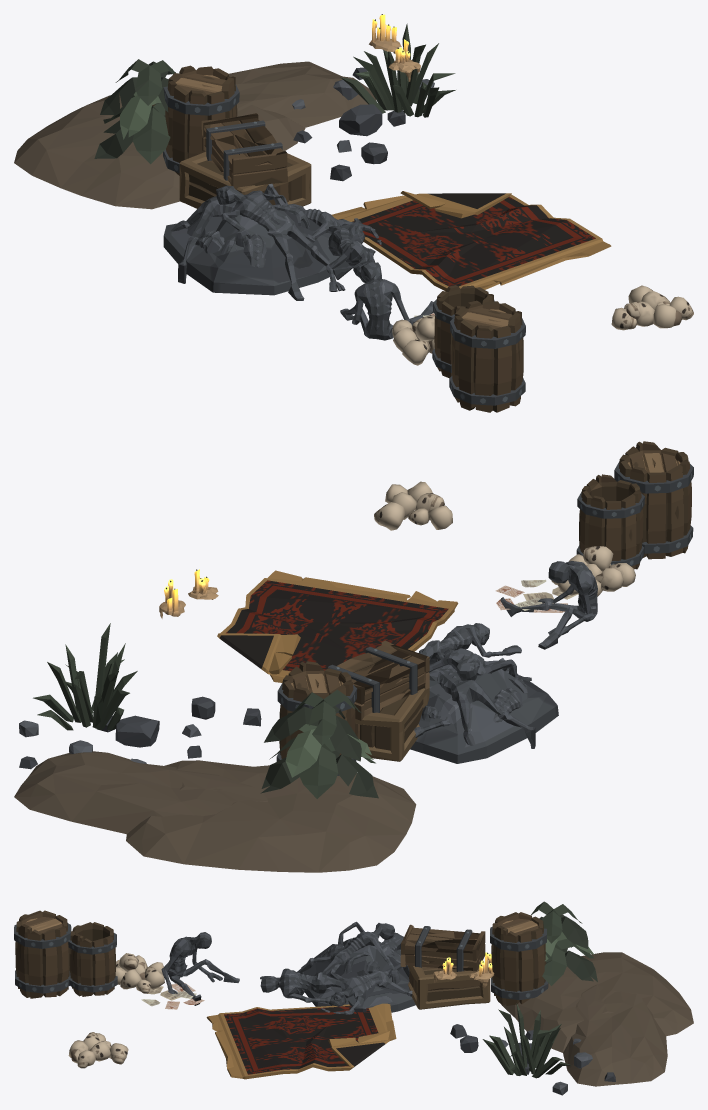
Rendered from crypt_cellar.gltf.
3 renders of one model, top to bottom at view 1: azimuth 30°, elevation 25°; view 2: azimuth 150°, elevation 25°; view 3: azimuth 270°, elevation 25°, orthographic. The views are drawn at different scales.
Visible parts, largest first — view 1: crypt_cellar; view 2: crypt_cellar; view 3: crypt_cellar.
Boxes of the visible parts, <box> form: crypt_cellar: <box>14,14,693,412</box>; crypt_cellar: <box>14,441,693,872</box>; crypt_cellar: <box>14,901,693,1095</box>.
Size of what is drawn, in the model's own units: 4.97 by 1.83 by 9.8.
1 material, 1 textured.
